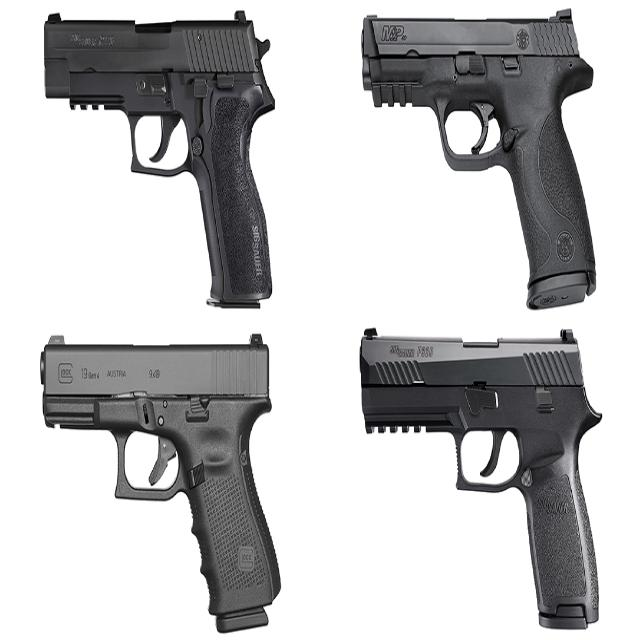HandGun: (359, 327, 603, 632), (38, 334, 283, 637), (361, 7, 598, 311), (43, 14, 276, 308)
